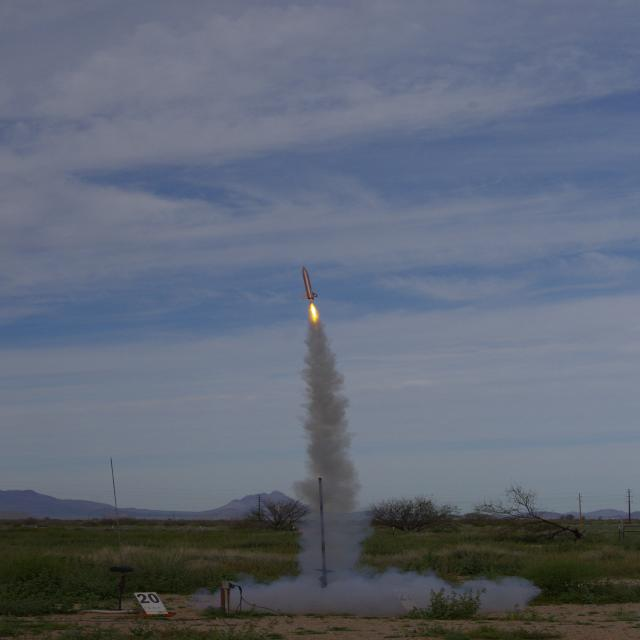Rocket: (300, 266, 319, 301)
